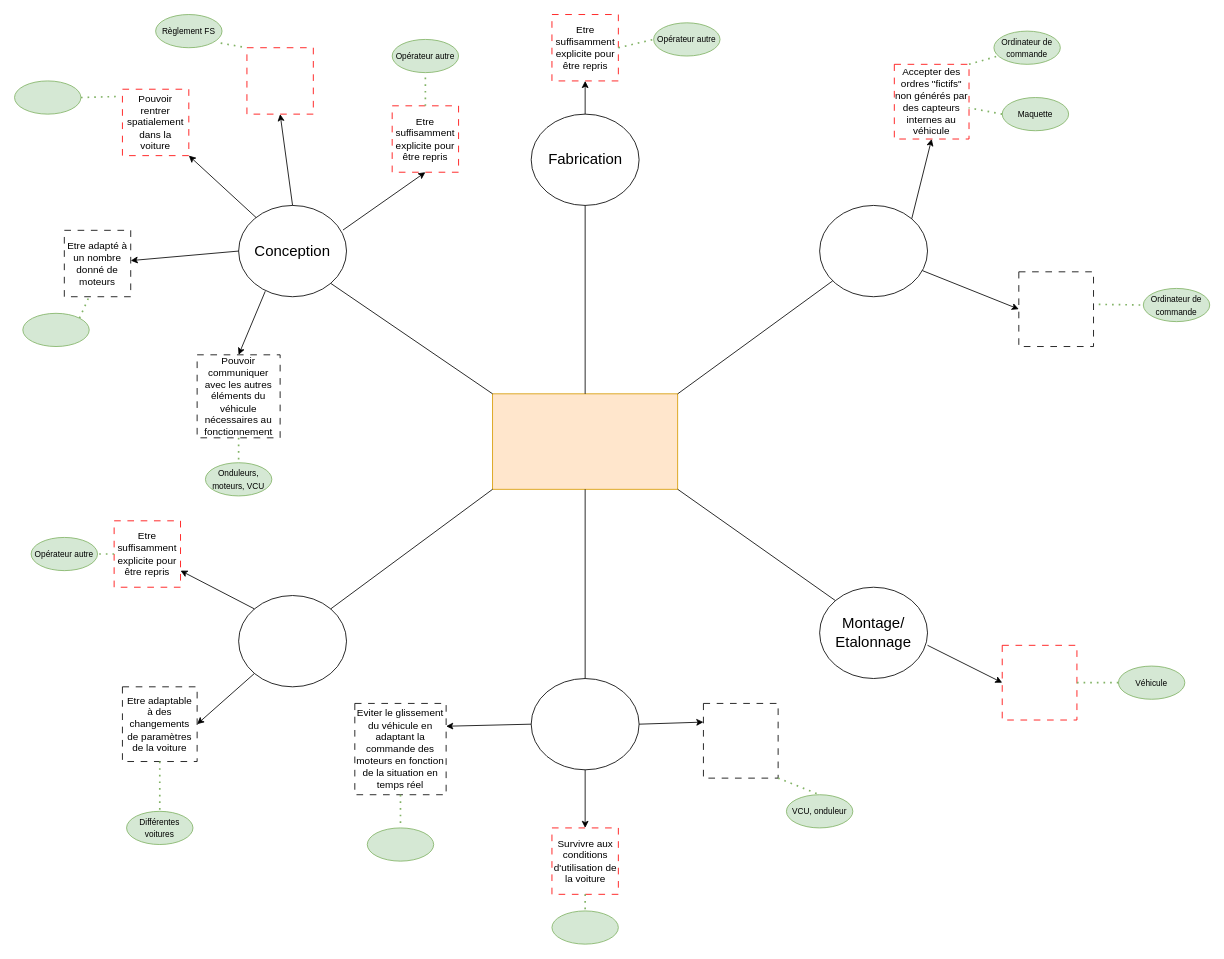
This 1224x959 diagram has some shape labels left out. Here are the shapes that lost their labels. From the top down, the centre of each, then its label:
the point at 47,97: Voisins spatiaux, VCU
the point at 279,80: Etre rule-compliant (surcourants, capteurs, ...)
the point at 873,251: Tests
the point at 55,329: Moteurs
the point at 1056,309: Fonctionner sur un modèle réduit (maquette)
the point at 585,441: Différentiel
the point at 292,641: Maintenance
the point at 1039,682: Etre implémentable dans le véhicule en convenant à ses paramètres
the point at 584,724: Utilisation
the point at 740,740: Transmettre et adapter les ordres du pilote en commandant les onduleurs
the point at 400,844: VCU, onduleurs, capteurs, route,...
the point at 584,927: Voisins spatiaux
